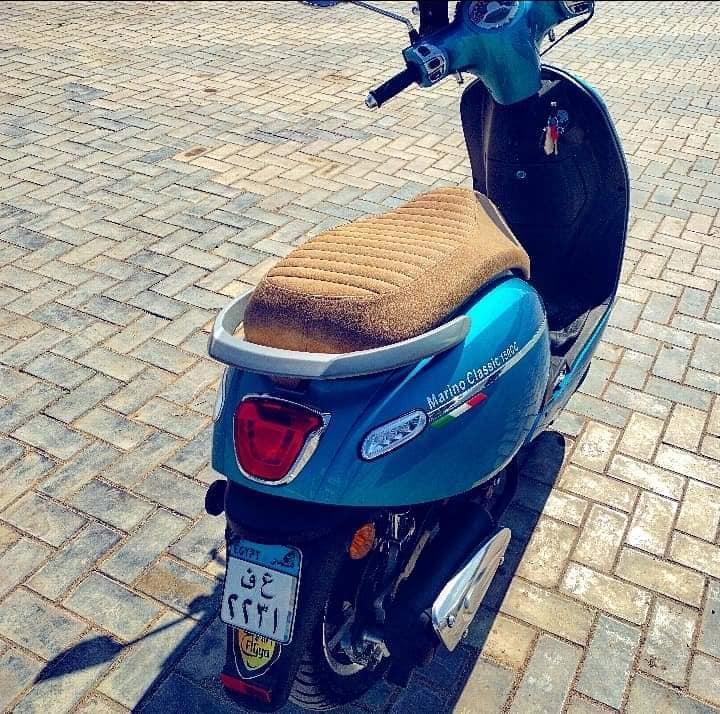License Plate: (226, 534, 303, 642)
